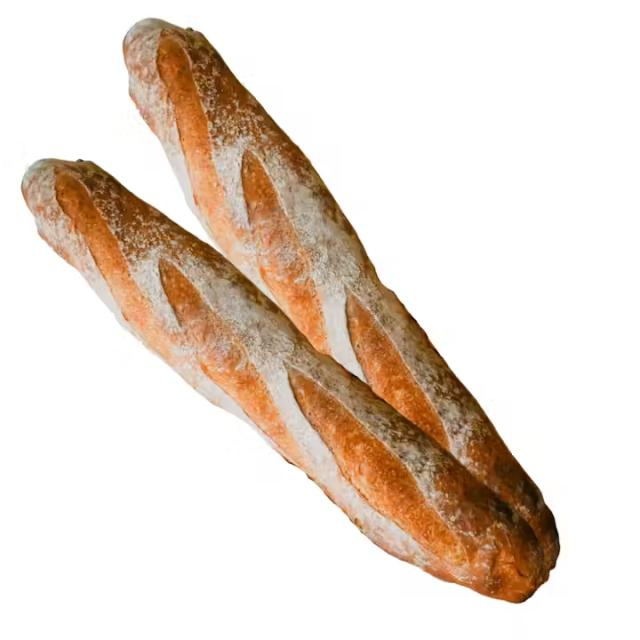Baguette: (124, 15, 560, 570), (23, 159, 550, 597)
